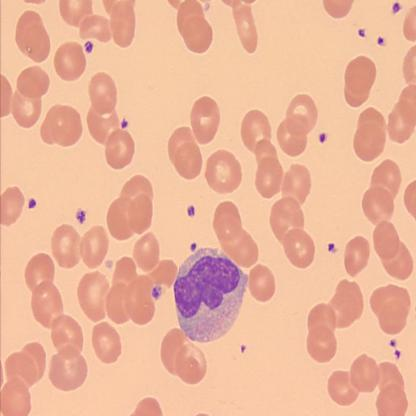Monocyte: (171, 244, 250, 344)
